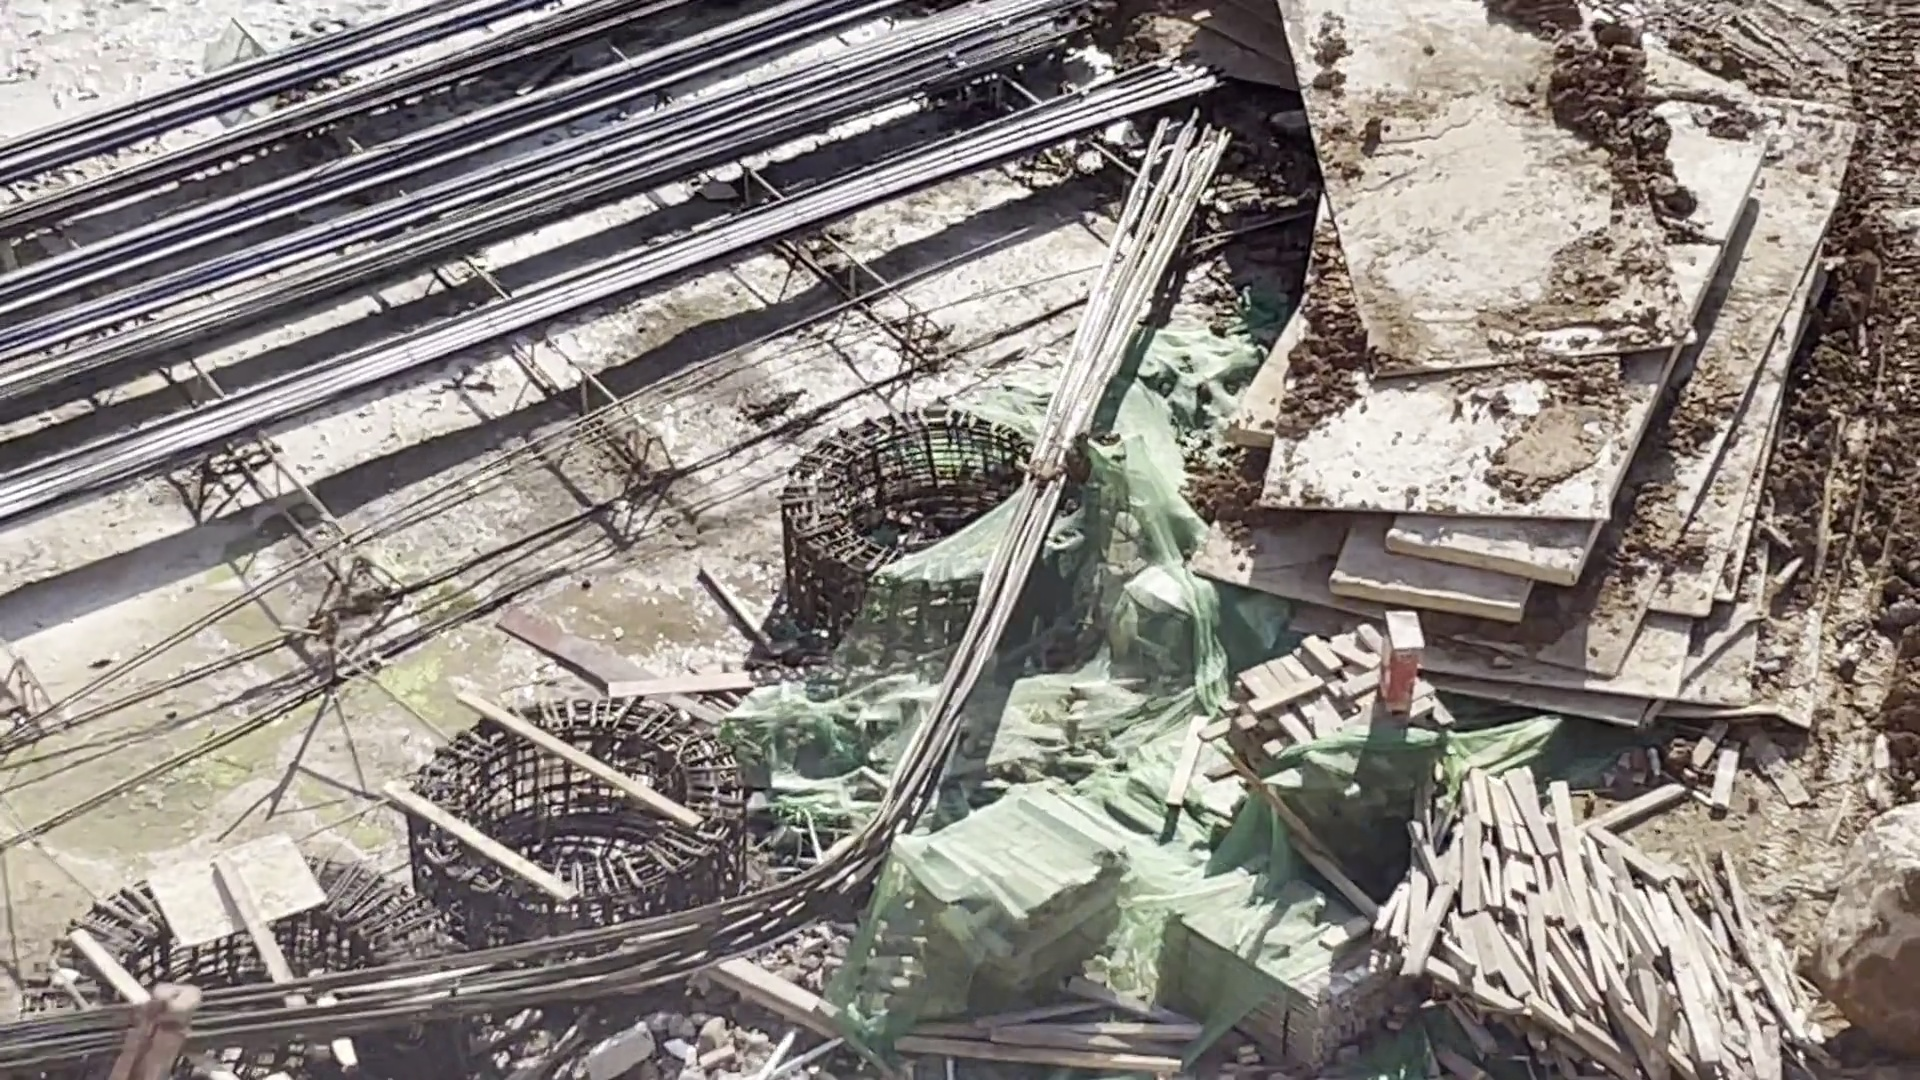board: (1220, 1, 1857, 709)
rebar: (1, 1, 1064, 419), (1, 819, 923, 1055), (899, 123, 1215, 746)
wood: (1377, 767, 1793, 1080), (918, 774, 1127, 1002), (1160, 882, 1402, 1065)
